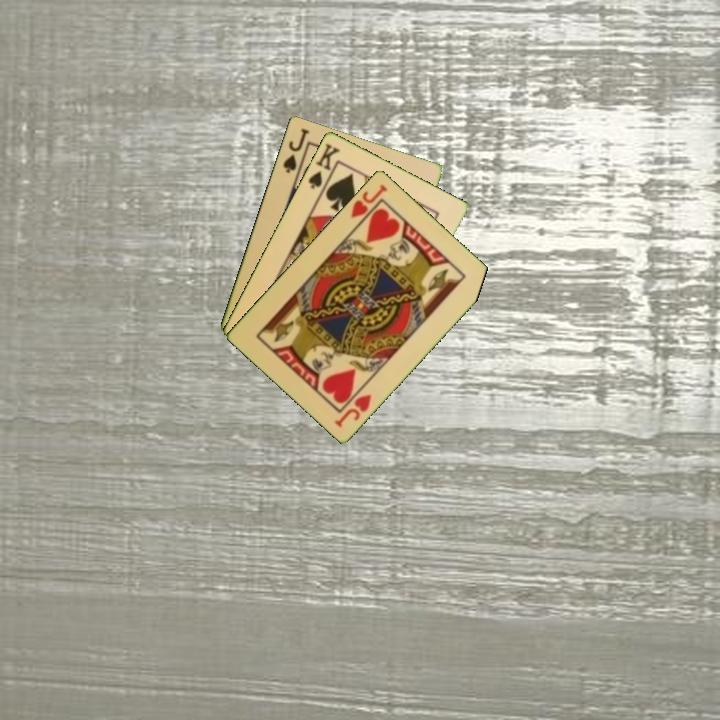Jh: (347, 180, 390, 221), (331, 390, 374, 430)
Js: (279, 124, 312, 176)
Ks: (304, 139, 343, 196)
